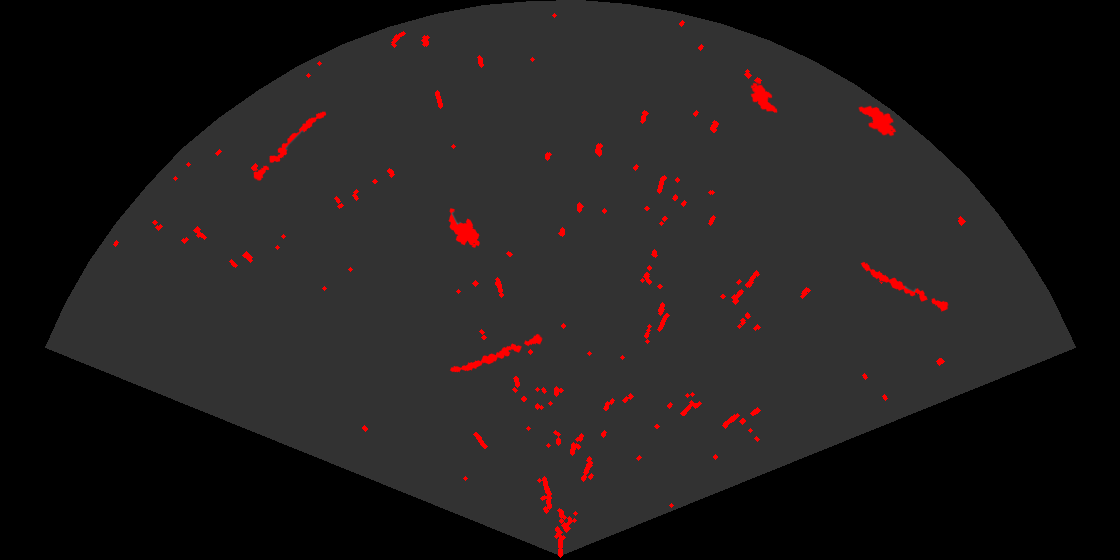AUV: (447, 207, 482, 250), (857, 104, 898, 138), (749, 81, 779, 115)
chain: (252, 110, 328, 182), (859, 260, 950, 313), (449, 332, 544, 374)
